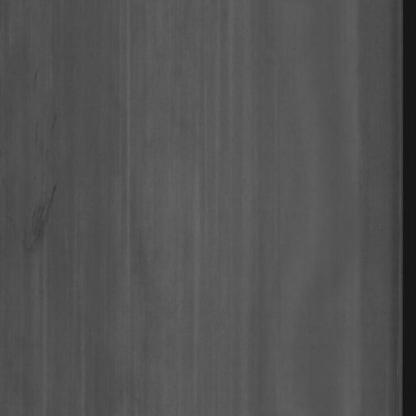water_spot: (23, 171, 59, 255)
